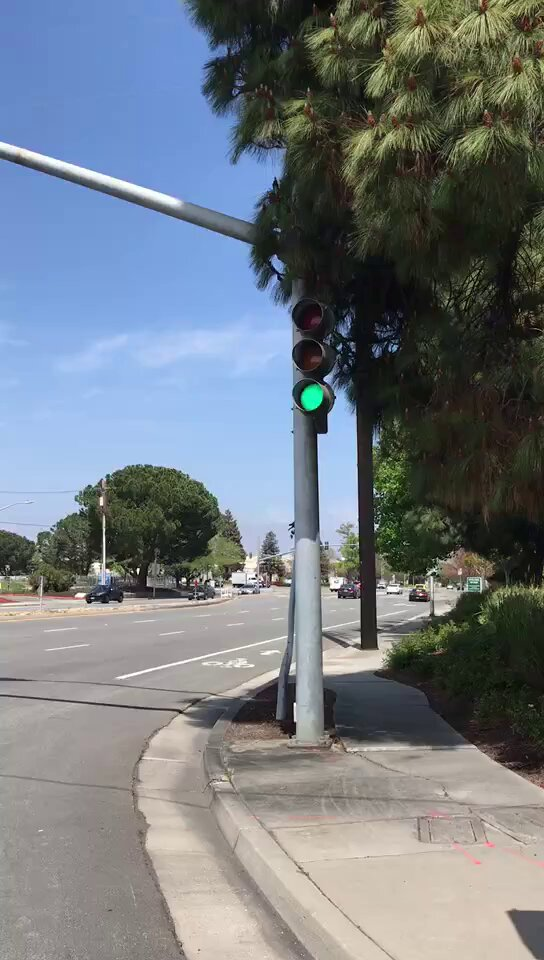green_light: (292, 299, 328, 416)
